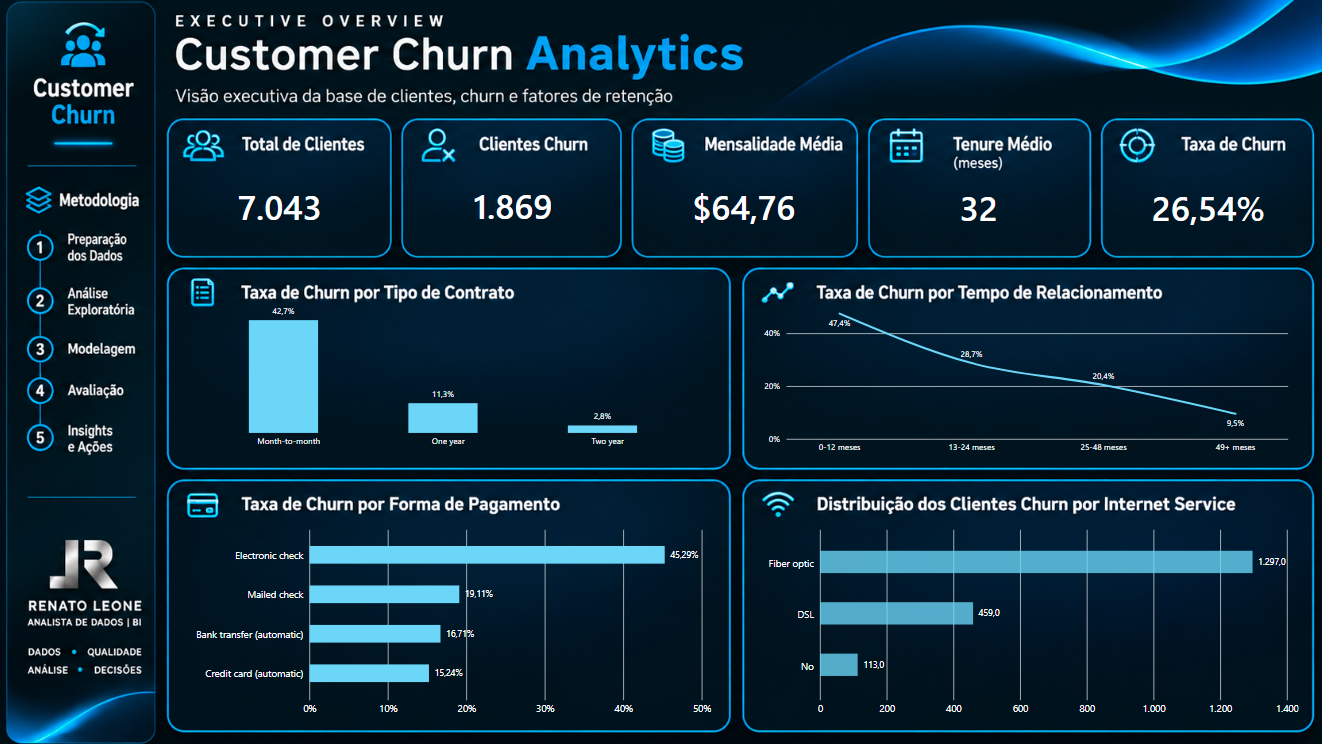

The dashboard page shown, as its layout file describes it:
{"tool":"powerbi","page":{"name":"01_EXECUTIVE_OVERVIEW","canvas":[1920,1080],"ordinal":0},"visuals":[{"type":"cardVisual","fields":{"Data":["customer_churn_clean.Total Clientes"]},"box":[253.7,231.2,306.2,133.6],"z":1000},{"type":"cardVisual","fields":{"Data":["customer_churn_clean.Clientes Churn"]},"box":[597.5,231.2,292.5,131.8],"z":2000},{"type":"cardVisual","fields":{"Data":["customer_churn_clean.Mensalidade Média"]},"box":[932.2,231.2,292.5,133.2],"z":3000},{"type":"cardVisual","fields":{"Data":["customer_churn_clean.Tenure Médio"]},"box":[1265.5,231.2,307,134.7],"z":4000},{"type":"cardVisual","fields":{"Data":["customer_churn_clean.Taxa de Churn"]},"box":[1606.3,231.2,291.2,135.1],"z":5000},{"type":"columnChart","title":"Taxa de Churn por Tipo de Contrato","fields":{"Category":["customer_churn_clean.Contract"],"Y":["customer_churn_clean.Taxa de Churn"]},"box":[253.7,412.8,794.1,255.2],"z":6000},{"type":"lineChart","title":"Taxa de Churn por Tempo de Relacionamento","fields":{"Category":["customer_churn_clean.TenureGroup"],"Y":["customer_churn_clean.Taxa de Churn"]},"box":[1091.4,421.8,791.1,255.2],"z":7000},{"type":"clusteredBarChart","title":"Distribuição dos Clientes Churn por Internet Service","fields":{"Category":["customer_churn_clean.InternetService"],"Y":["customer_churn_clean.Clientes Churn"]},"box":[1091.4,746.1,806.1,310.7],"z":8000},{"type":"clusteredBarChart","title":"Taxa de Churn por Forma de Pagamento","fields":{"Category":["customer_churn_clean.PaymentMethod"],"Y":["customer_churn_clean.Taxa de Churn"]},"box":[253.7,746.1,794.1,310.7],"z":9000}]}

Visuals, with their boxes in screenshot pixels (x1, y1, x2, y2), scaled from the page's 1920x1080 canvas onto the 1322x744 screenshot:
cardVisual - customer_churn_clean.Total Clientes: (x1=175, y1=159, x2=386, y2=251)
cardVisual - customer_churn_clean.Clientes Churn: (x1=411, y1=159, x2=613, y2=250)
cardVisual - customer_churn_clean.Mensalidade Média: (x1=642, y1=159, x2=843, y2=251)
cardVisual - customer_churn_clean.Tenure Médio: (x1=871, y1=159, x2=1083, y2=252)
cardVisual - customer_churn_clean.Taxa de Churn: (x1=1106, y1=159, x2=1307, y2=252)
"Taxa de Churn por Tipo de Contrato" columnChart: (x1=175, y1=284, x2=721, y2=460)
"Taxa de Churn por Tempo de Relacionamento" lineChart: (x1=751, y1=291, x2=1296, y2=466)
"Distribuição dos Clientes Churn por Internet Service" clusteredBarChart: (x1=751, y1=514, x2=1307, y2=728)
"Taxa de Churn por Forma de Pagamento" clusteredBarChart: (x1=175, y1=514, x2=721, y2=728)
